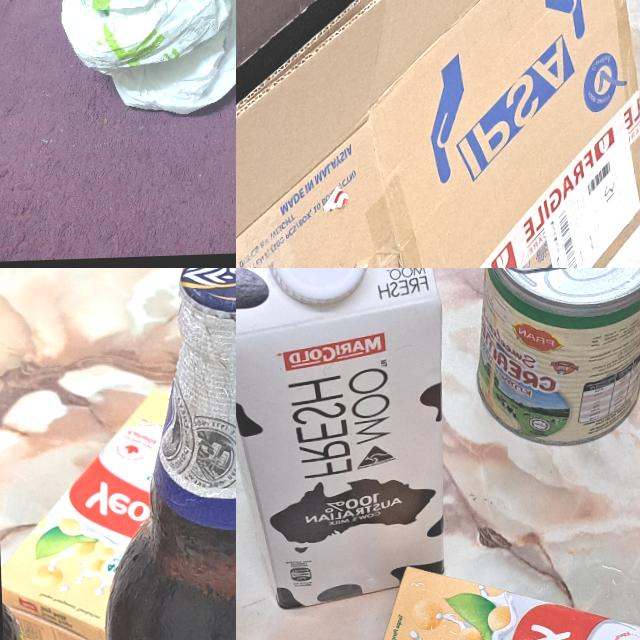caixinha: (236, 268, 449, 610), (0, 385, 184, 640), (362, 556, 640, 640)
garrafa de vidro: (91, 268, 236, 640), (0, 553, 57, 640)
lata: (467, 268, 640, 448)
papelão: (236, 0, 640, 268)
sacola plástica: (55, 0, 236, 123)
